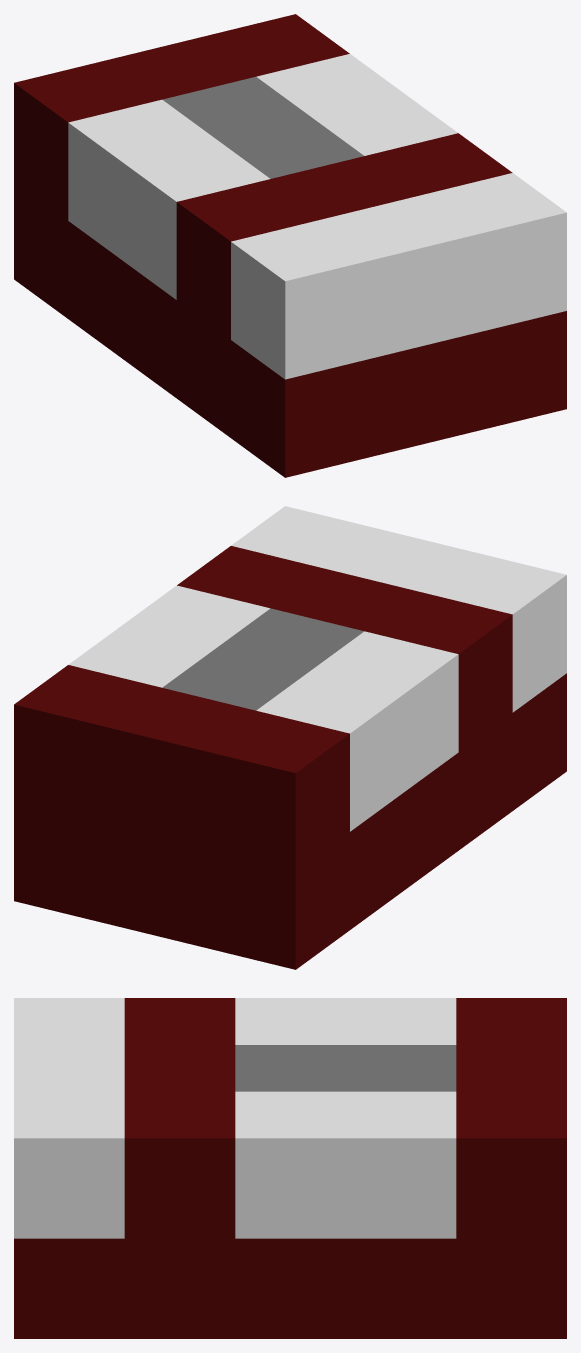
Rendered from BUTTY_FOOT.obj.
3 views of the same model, one above another, from view 1: azimuth 30°, elevation 25°; view 2: azimuth 150°, elevation 25°; view 3: azimuth 270°, elevation 25° (orthographic).
Bounding box in the file's own units: 0.3 × 0.2 × 0.5.
1 material, 1 textured.
